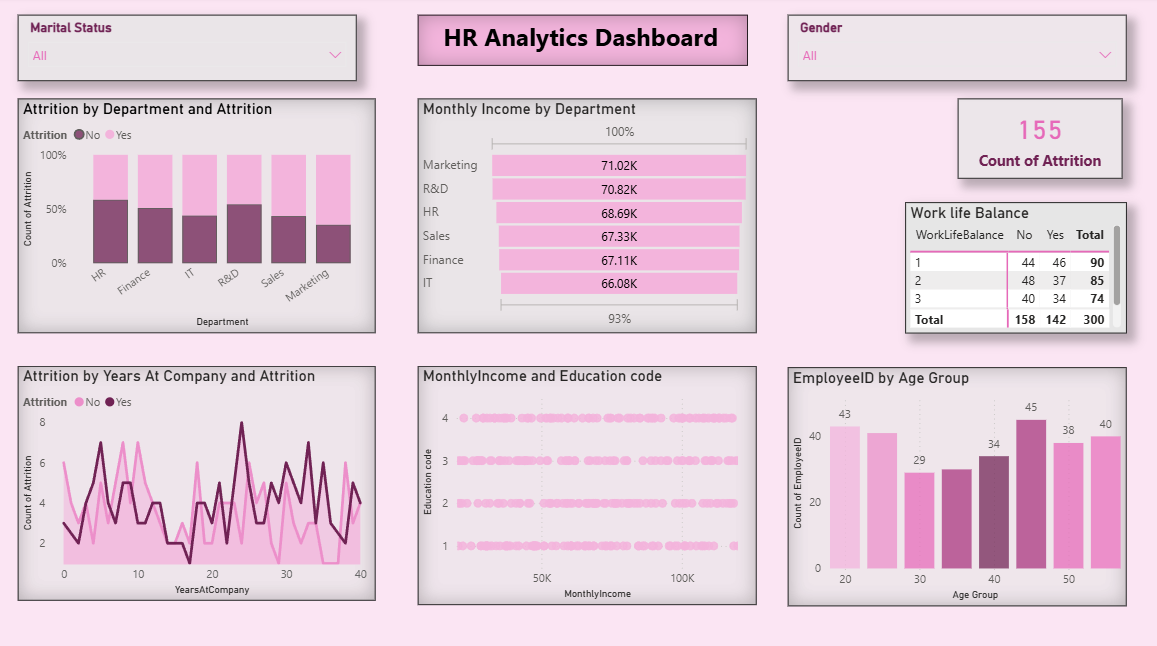

This screenshot's page, from the dashboard's own definition file:
{"tool":"powerbi","page":{"name":"Page 1","canvas":[1280,720],"ordinal":0},"visuals":[{"type":"funnel","title":"Monthly Income by Department","fields":{"Category":["hr_data (1).Department"],"Y":["Avg(hr_data (1).MonthlyIncome)"]},"box":[465.2,112.5,371.9,258],"z":0},{"type":"hundredPercentStackedColumnChart","title":" Attrition by Department and Attrition","fields":{"Category":["hr_data (1).Department"],"Y":["CountNonNull(hr_data (1).Attrition)"],"Series":["hr_data (1).Attrition"]},"box":[26.1,112.5,392.5,258],"z":1000},{"type":"lineChart","title":"Attrition by Years  At Company and Attrition","fields":{"Category":["hr_data (1).YearsAtCompany"],"Y":["CountNonNull(hr_data (1).Attrition)"],"Series":["hr_data (1).Attrition"]},"box":[26.1,406.2,392.5,258],"z":2000},{"type":"textbox","box":[465.2,20.6,362.3,56.3],"z":3000},{"type":"pivotTable","title":"Work life Balance","fields":{"Rows":["hr_data (1).WorkLifeBalance"],"Columns":["hr_data (1).OverTime"],"Values":["CountNonNull(hr_data (1).EmployeeID)"]},"box":[1000.3,226.4,242.9,144.1],"z":4000},{"type":"scatterChart","fields":{"X":["hr_data (1).MonthlyIncome"],"Y":["Education.Education code"]},"box":[465.2,406.2,371.9,262.1],"z":5000},{"type":"card","fields":{"Values":["CountNonNull(hr_data (1).Attrition)"]},"box":[1058,112.5,181.1,87.8],"z":6000},{"type":"columnChart","title":"EmployeeID by Age Group","fields":{"Category":["hr_data (1).Age Group"],"Y":["CountNonNull(hr_data (1).EmployeeID)"]},"box":[871.4,407.5,371.9,262.1],"z":7000},{"type":"slicer","fields":{"Values":["hr_data (1).MaritalStatus"]},"box":[26.1,20.6,371.9,72.7],"z":8000},{"type":"slicer","fields":{"Values":["hr_data (1).Gender"]},"box":[871.4,20.6,371.9,72.7],"z":9000}]}

Visuals, with their boxes in screenshot pixels (x1, y1, x2, y2), scaled from the page's 1280x720 canvas onto the 1157x646 screenshot:
"Monthly Income by Department" funnel: crop(420, 101, 757, 332)
" Attrition by Department and Attrition" hundredPercentStackedColumnChart: crop(24, 101, 378, 332)
"Attrition by Years  At Company and Attrition" lineChart: crop(24, 364, 378, 596)
textbox: crop(420, 18, 748, 69)
"Work life Balance" pivotTable: crop(904, 203, 1124, 332)
scatterChart - hr_data (1).MonthlyIncome x Education.Education code: crop(420, 364, 757, 600)
card - CountNonNull(hr_data (1).Attrition): crop(956, 101, 1120, 180)
"EmployeeID by Age Group" columnChart: crop(788, 366, 1124, 601)
slicer - hr_data (1).MaritalStatus: crop(24, 18, 360, 84)
slicer - hr_data (1).Gender: crop(788, 18, 1124, 84)
